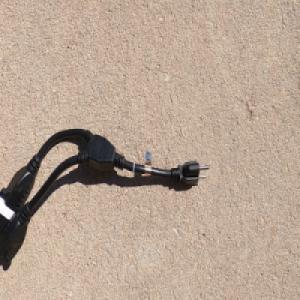Wire: (0, 126, 211, 269)
